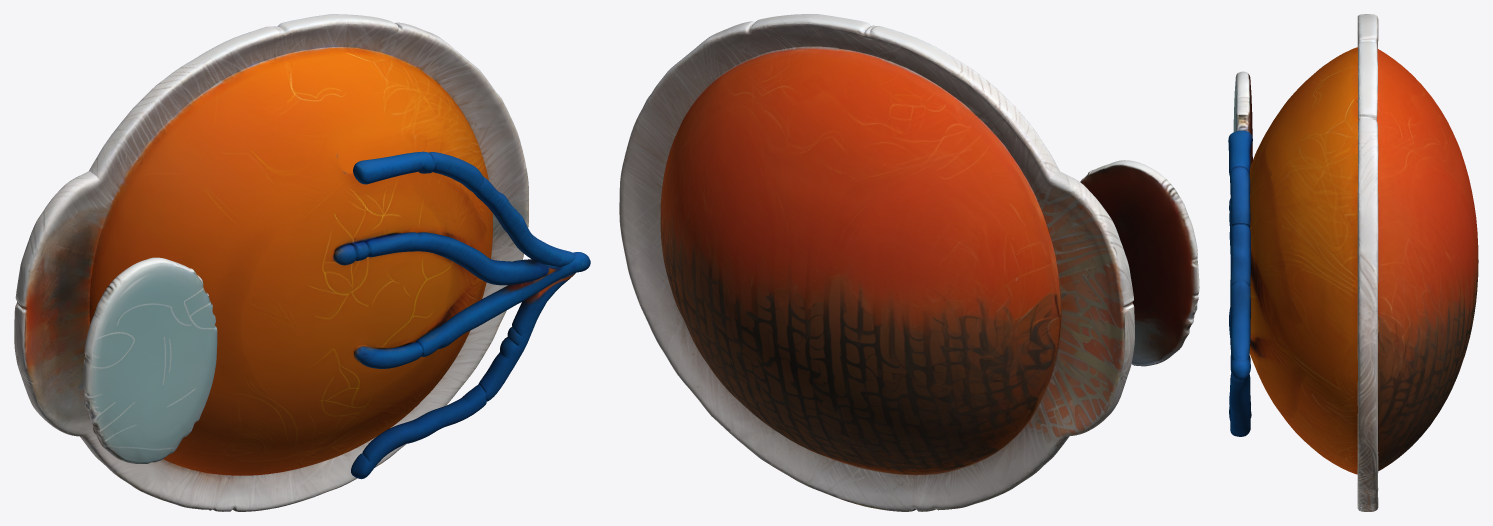
File: base_basic_pbr.fbx
3 views of the same model, side by side, from view 1: azimuth 30°, elevation 25°; view 2: azimuth 150°, elevation 25°; view 3: azimuth 270°, elevation 25° (orthographic). The views are drawn at different scales.
Visible parts, largest first — view 1: model; view 2: model; view 3: model.
Part boxes in pixels (<box>): model: <box>14,14,590,511</box>; model: <box>619,14,1199,511</box>; model: <box>1228,14,1478,511</box>.
Bounding box in the file's own units: 185 × 166 × 84.48.
Materials: 1 (1 with a texture image).
